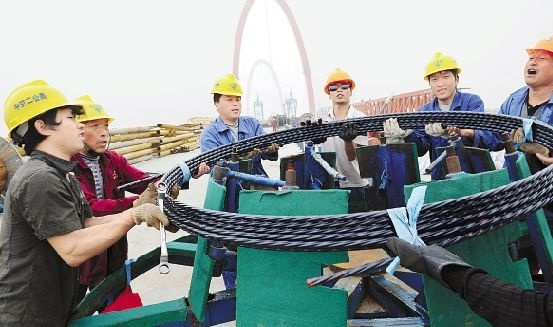yellow: (5, 81, 82, 163), (71, 95, 111, 155), (425, 53, 458, 101), (523, 34, 553, 84), (211, 74, 241, 120), (322, 69, 356, 108)
